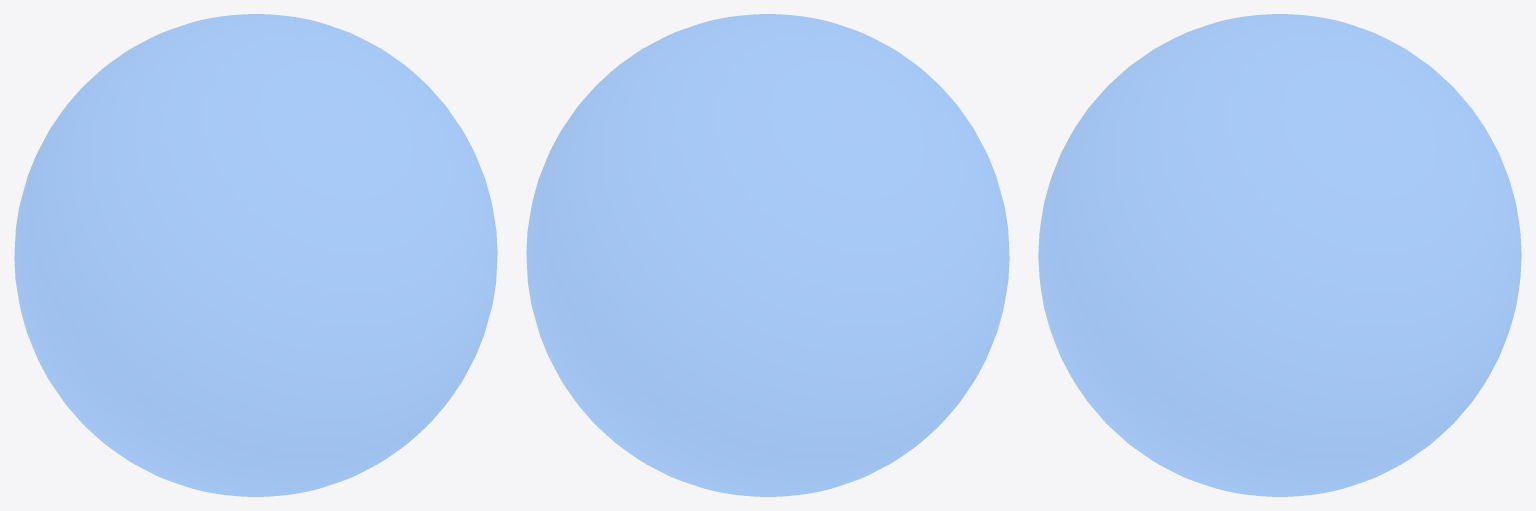
Rendered from earth.glb.
3 views of the same model, side by side, from view 1: azimuth 30°, elevation 25°; view 2: azimuth 150°, elevation 25°; view 3: azimuth 270°, elevation 25° (orthographic).
Parts seen in each view (by area): view 1: EarthAtmosphere; view 2: EarthAtmosphere; view 3: EarthAtmosphere.
Boxes of the visible parts, bbox=[...] form: EarthAtmosphere: bbox=[14, 14, 497, 496]; EarthAtmosphere: bbox=[526, 14, 1009, 496]; EarthAtmosphere: bbox=[1038, 14, 1521, 496].
Bounding box in the file's own units: 681 × 681 × 681.
